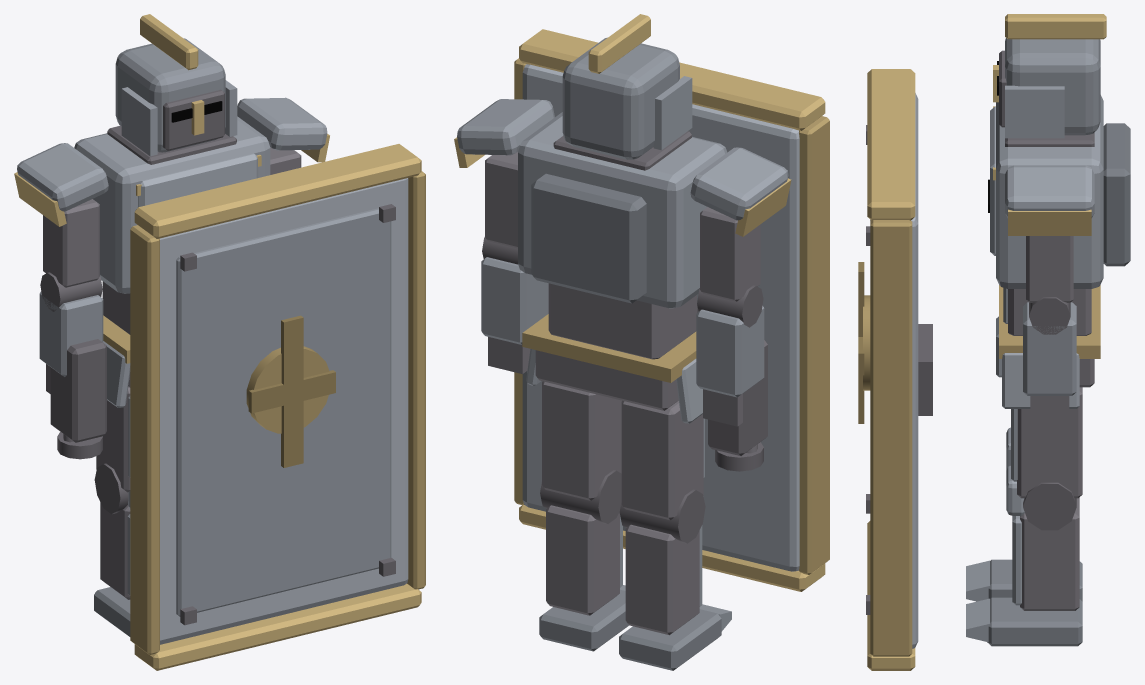
The model's file is shieldbearer.glb.
3 views of the same model, side by side, from view 1: azimuth 30°, elevation 25°; view 2: azimuth 150°, elevation 25°; view 3: azimuth 270°, elevation 25° (orthographic). The views are drawn at different scales.
Parts seen in each view (by area): view 1: shieldbearer*0.004, shieldbearer*1.25, bronze*0.002, bronze.005, shieldbearer.010, bronze*0.001, bronze.006, shieldbearer*0.002, gunmetal.006, gunmetal*1.009, shieldbearer.014, shieldbearer*0.003 (+21 smaller); view 2: shieldbearer*1.25, shieldbearer.010, bronze*0.002, shieldbearer*0.6, shieldbearer*0.002, gunmetal*1.002, gunmetal*1.3, gunmetal*1.006, bronze.005, gunmetal*1.004, gunmetal*1.001, shieldbearer*0.003 (+24 smaller); view 3: bronze*0.001, bronze.005, shieldbearer.010, shieldbearer*0.002, gunmetal*1.001, gunmetal*1.3, shieldbearer.013, shieldbearer*0.6, shieldbearer*0.9, shieldbearer*0.7, shieldbearer*1.25, shieldbearer.011 (+23 smaller).
Boxes of the visible parts, box(x1,y1,x2,y2) form: shieldbearer*0.004: box(176, 208, 391, 616); shieldbearer*1.25: box(160, 178, 408, 644); bronze*0.002: box(130, 225, 159, 654); bronze.005: box(134, 144, 421, 238); shieldbearer.010: box(74, 116, 270, 293); bronze*0.001: box(407, 171, 425, 589); bronze.006: box(134, 583, 421, 670); shieldbearer*0.002: box(115, 38, 225, 152); gunmetal.006: box(50, 339, 106, 442); gunmetal*1.009: box(43, 199, 99, 287); shieldbearer.014: box(17, 143, 108, 211); shieldbearer*0.003: box(39, 291, 103, 376); shieldbearer*1.25: box(522, 64, 799, 571); shieldbearer.010: box(518, 112, 727, 308); bronze*0.002: box(799, 116, 829, 574); shieldbearer*0.6: box(531, 173, 646, 303); shieldbearer*0.002: box(562, 37, 679, 159); gunmetal*1.002: box(621, 400, 703, 520); gunmetal*1.3: box(542, 381, 621, 500); gunmetal*1.006: box(548, 283, 696, 359); bronze.005: box(519, 29, 825, 130); gunmetal*1.004: box(625, 524, 699, 635); gunmetal*1.001: box(546, 505, 619, 615); shieldbearer*0.003: box(696, 305, 764, 397); bronze*0.001: box(870, 220, 912, 656); bronze.005: box(867, 69, 915, 220); shieldbearer.010: box(996, 95, 1103, 288); shieldbearer*0.002: box(1005, 38, 1100, 135); gunmetal*1.001: box(1020, 498, 1079, 610); gunmetal*1.3: box(1017, 387, 1082, 498); shieldbearer.013: box(1005, 165, 1094, 217); shieldbearer*0.6: box(1103, 123, 1130, 266); shieldbearer*0.9: box(1023, 302, 1076, 395); shieldbearer*0.7: box(987, 597, 1082, 646); shieldbearer*1.25: box(911, 93, 918, 648); shieldbearer.011: box(1005, 85, 1064, 138).
Size of the model in its own units: 1.24 by 2.21 by 0.91.
